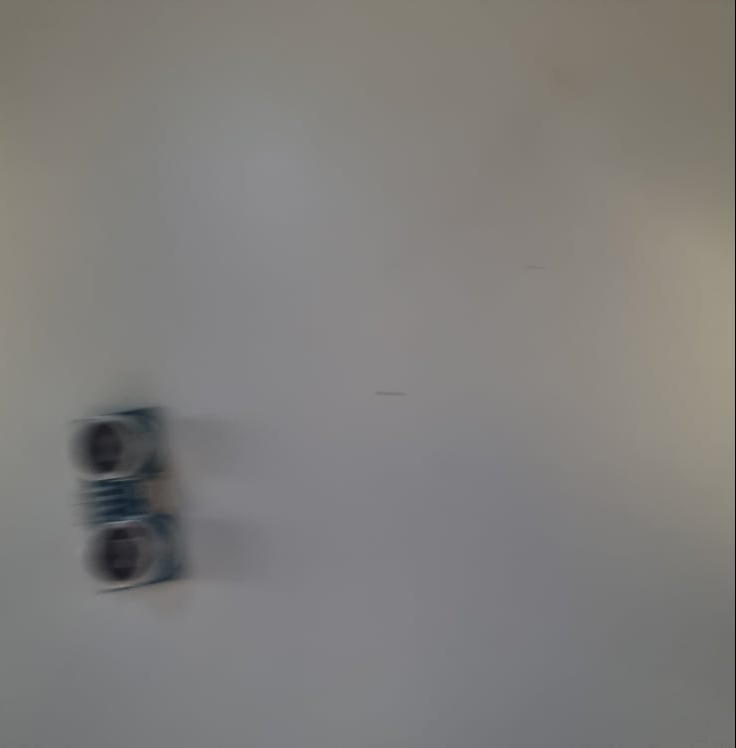SENSOR: (60, 404, 180, 597)
